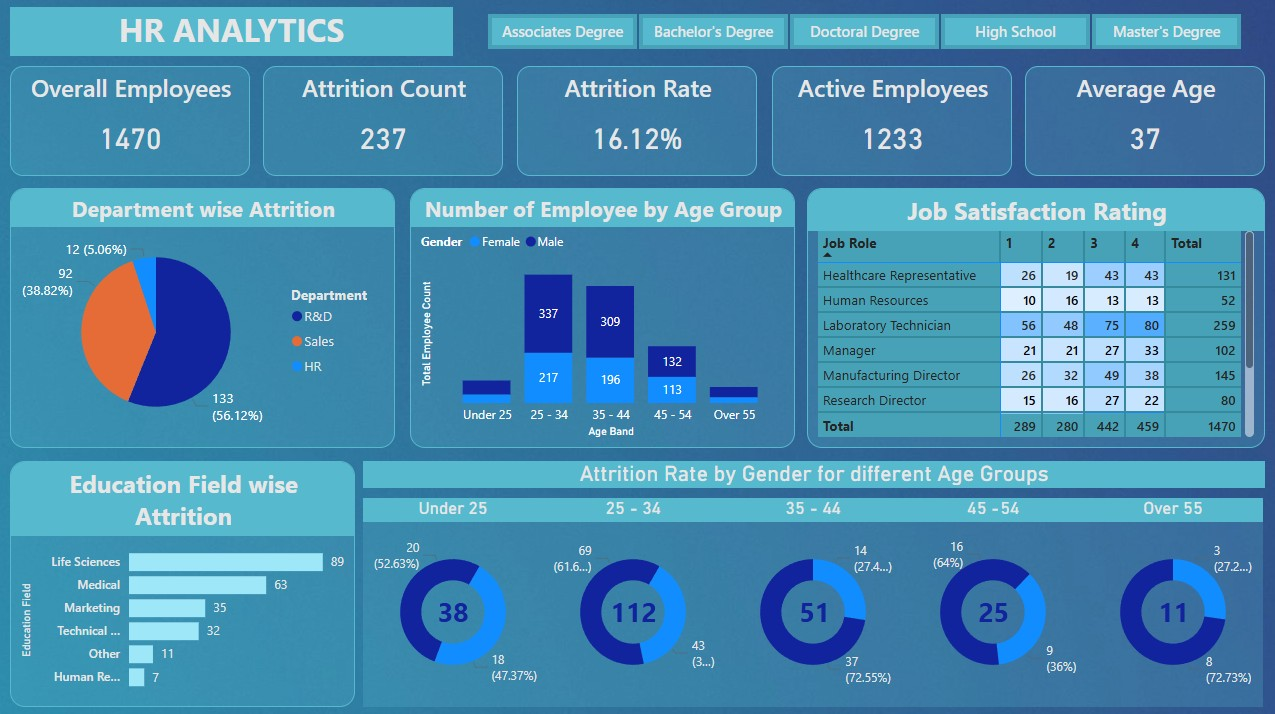

The page's visual inventory and layout, read from the dashboard file:
{"tool":"powerbi","page":{"name":"Page 1","canvas":[1280,720],"ordinal":0},"visuals":[{"type":"card","title":"Overall Employees","fields":{"Values":["Sum(HR data.Employee Count)"]},"box":[12.5,67.5,240,110],"z":0},{"type":"card","title":"Attrition Count","fields":{"Values":["Sum(HR data.Attrition Count)"]},"box":[266.2,67.5,240,110],"z":1000},{"type":"card","title":"Attrition Rate","fields":{"Values":["HR data.Attrition Rate"]},"box":[520,67.5,240,110],"z":2000},{"type":"card","title":"Active Employees","fields":{"Values":["HR data.Active Employees"]},"box":[775,67.5,240,110],"z":3000},{"type":"card","title":"Average Age","fields":{"Values":["Avg(HR data.Age)"]},"box":[1027.5,67.5,240,110],"z":4000},{"type":"pieChart","title":"Department wise Attrition","fields":{"Category":["HR data.Department"],"Y":["Sum(HR data.Attrition Count)"]},"box":[12.5,190,385,260],"z":5000},{"type":"columnChart","title":"Number of Employee by Age Group","fields":{"Category":["HR data.CF_age band"],"Y":["Sum(HR data.Employee Count)"],"Series":["HR data.Gender"]},"box":[412.5,190,385,260],"z":6000},{"type":"pivotTable","title":"Job Satisfaction Rating","fields":{"Rows":["HR data.Job Role"],"Columns":["HR data.Job Satisfaction"],"Values":["Sum(HR data.Employee Count)"]},"box":[810,190,457.5,260],"z":7000},{"type":"barChart","title":"Education Field wise Attrition","fields":{"Category":["HR data.Education Field"],"Y":["Sum(HR data.Attrition Count)"]},"box":[12.5,462.5,345,246.2],"z":8000},{"type":"donutChart","title":"Under 25","fields":{"Category":["HR data.Gender"],"Y":["Sum(HR data.Attrition Count)"],"Series":["HR data.CF_age band"]},"box":[366.2,500,180,208.8],"z":9000},{"type":"textbox","title":"Attrition Rate by Gender for different Age Groups","box":[366.2,462.5,901.2,27.5],"z":10000},{"type":"donutChart","title":"25 - 34","fields":{"Category":["HR data.Gender"],"Y":["Sum(HR data.Attrition Count)"],"Series":["HR data.CF_age band"]},"box":[546.2,500,180,208.8],"z":11000},{"type":"donutChart","title":"35 - 44","fields":{"Category":["HR data.Gender"],"Y":["Sum(HR data.Attrition Count)"],"Series":["HR data.CF_age band"]},"box":[726.2,500,180,208.8],"z":12000},{"type":"donutChart","title":"45 -54","fields":{"Category":["HR data.Gender"],"Y":["Sum(HR data.Attrition Count)"],"Series":["HR data.CF_age band"]},"box":[906.2,500,180,208.8],"z":13000},{"type":"donutChart","title":"Over 55","fields":{"Category":["HR data.Gender"],"Y":["Sum(HR data.Attrition Count)"],"Series":["HR data.CF_age band"]},"box":[1086.2,500,180,208.8],"z":14000},{"type":"card","fields":{"Values":["Sum(HR data.Attrition Count)"]},"box":[433.6,594.5,44.5,40],"z":15000},{"type":"card","fields":{"Values":["Sum(HR data.Attrition Count)"]},"box":[599.1,579.1,74.5,70.9],"z":16000},{"type":"card","fields":{"Values":["Sum(HR data.Attrition Count)"]},"box":[780,579.1,74.5,70.9],"z":17000},{"type":"card","fields":{"Values":["Sum(HR data.Attrition Count)"]},"box":[959.1,579.1,74.5,70.9],"z":18000},{"type":"card","fields":{"Values":["Sum(HR data.Attrition Count)"]},"box":[1139.1,579.1,74.5,70.9],"z":19000},{"type":"textbox","title":"HR ANALYTICS DASHBOARD","box":[12.5,8.8,443.8,48.8],"z":20000},{"type":"slicer","fields":{"Values":["HR data.Education"]},"box":[465,8.8,802.5,48.8],"z":21000}]}

Visuals, with their boxes in screenshot pixels (x1, y1, x2, y2), scaled from the page's 1280x720 canvas onto the 1275x714 screenshot:
"Overall Employees" card: crop(12, 67, 252, 176)
"Attrition Count" card: crop(265, 67, 504, 176)
"Attrition Rate" card: crop(518, 67, 757, 176)
"Active Employees" card: crop(772, 67, 1011, 176)
"Average Age" card: crop(1023, 67, 1263, 176)
"Department wise Attrition" pieChart: crop(12, 188, 396, 446)
"Number of Employee by Age Group" columnChart: crop(411, 188, 794, 446)
"Job Satisfaction Rating" pivotTable: crop(807, 188, 1263, 446)
"Education Field wise Attrition" barChart: crop(12, 459, 356, 703)
"Under 25" donutChart: crop(365, 496, 544, 703)
"Attrition Rate by Gender for different Age Groups" textbox: crop(365, 459, 1262, 486)
"25 - 34" donutChart: crop(544, 496, 723, 703)
"35 - 44" donutChart: crop(723, 496, 903, 703)
"45 -54" donutChart: crop(903, 496, 1082, 703)
"Over 55" donutChart: crop(1082, 496, 1261, 703)
card - Sum(HR data.Attrition Count): crop(432, 590, 476, 629)
card - Sum(HR data.Attrition Count): crop(597, 574, 671, 645)
card - Sum(HR data.Attrition Count): crop(777, 574, 851, 645)
card - Sum(HR data.Attrition Count): crop(955, 574, 1030, 645)
card - Sum(HR data.Attrition Count): crop(1135, 574, 1209, 645)
"HR ANALYTICS DASHBOARD" textbox: crop(12, 9, 455, 57)
slicer - HR data.Education: crop(463, 9, 1263, 57)
